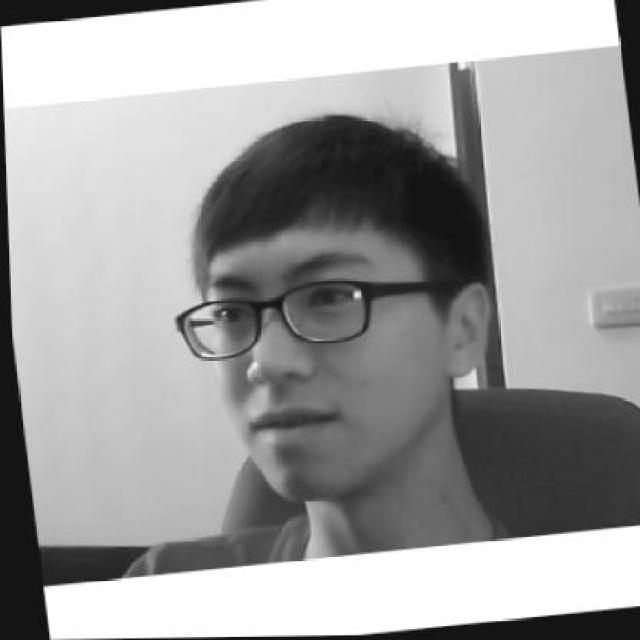attentif: (153, 95, 510, 512)
